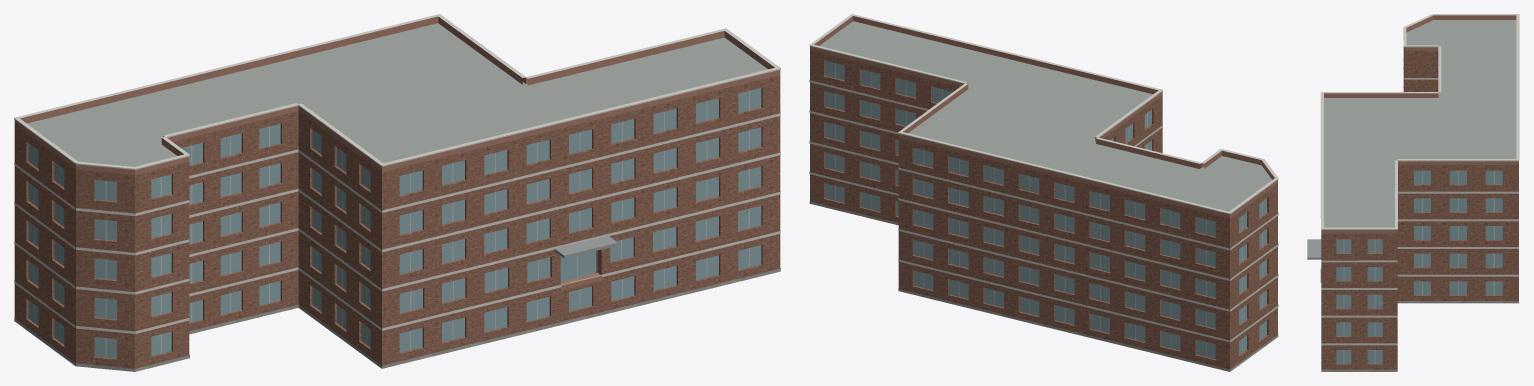
3 views of the same model, side by side, from view 1: azimuth 30°, elevation 25°; view 2: azimuth 150°, elevation 25°; view 3: azimuth 270°, elevation 25° (orthographic). The views are drawn at different scales.
Parts seen in each view (by area): view 1: w15__wall, w15__roof, w15__glass, w15__trim, w15__parapet, w15__base, w15__frame, w15__canopy; view 2: w15__wall, w15__roof, w15__glass, w15__trim, w15__parapet, w15__frame, w15__base; view 3: w15__roof, w15__wall, w15__glass, w15__trim, w15__parapet, w15__base, w15__frame, w15__canopy.
Boxes of the visible parts, <box> form: w15__wall: <box>14,75,780,371</box>; w15__roof: <box>27,23,767,166</box>; w15__glass: <box>28,88,761,358</box>; w15__trim: <box>14,14,780,333</box>; w15__parapet: <box>14,16,780,175</box>; w15__base: <box>14,268,780,371</box>; w15__frame: <box>34,91,749,357</box>; w15__canopy: <box>554,235,617,258</box>; w15__wall: <box>810,50,1277,371</box>; w15__roof: <box>819,21,1271,211</box>; w15__glass: <box>825,60,1266,359</box>; w15__trim: <box>809,14,1278,342</box>; w15__parapet: <box>810,16,1277,218</box>; w15__frame: <box>835,63,1262,357</box>; w15__base: <box>809,201,1278,371</box>; w15__roof: <box>1324,20,1516,227</box>; w15__wall: <box>1321,46,1518,369</box>; w15__glass: <box>1336,170,1502,363</box>; w15__trim: <box>1320,14,1519,345</box>; w15__parapet: <box>1321,15,1518,233</box>; w15__base: <box>1321,301,1518,371</box>; w15__frame: <box>1343,170,1494,363</box>; w15__canopy: <box>1307,239,1321,259</box>.
Bounding box in the file's own units: 58.41 × 18.12 × 24.35.
Materials: 10 (2 with a texture image).
